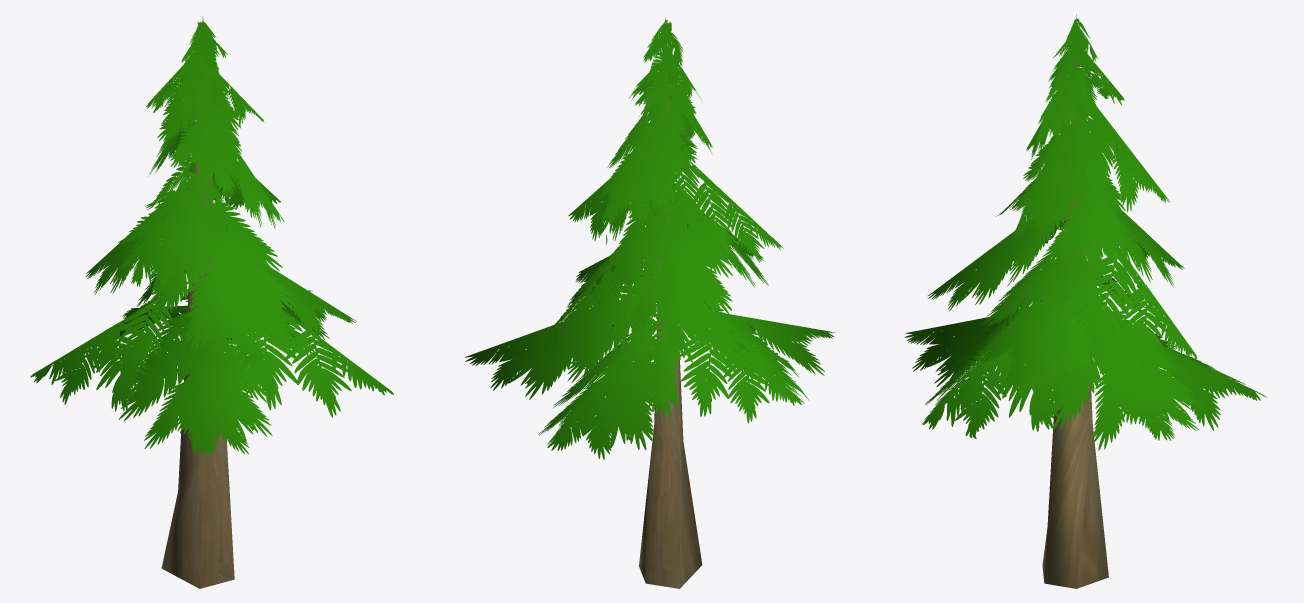
The model's file is m_env_collect_tree_cedar_02_lod3.fbx.
The picture shows the model from 3 angles, left to right: view 1: azimuth 30°, elevation 25°; view 2: azimuth 150°, elevation 25°; view 3: azimuth 270°, elevation 25°; orthographic projection.
Visible parts, largest first — view 1: m_env_collect_tree_cedar_02_lod3; view 2: m_env_collect_tree_cedar_02_lod3; view 3: m_env_collect_tree_cedar_02_lod3.
Part boxes in pixels (x1,y1,x2,y2): m_env_collect_tree_cedar_02_lod3: (30, 16, 393, 588); m_env_collect_tree_cedar_02_lod3: (465, 19, 835, 588); m_env_collect_tree_cedar_02_lod3: (904, 14, 1266, 588).
Bounding box in the file's own units: 352 × 549 × 358.
